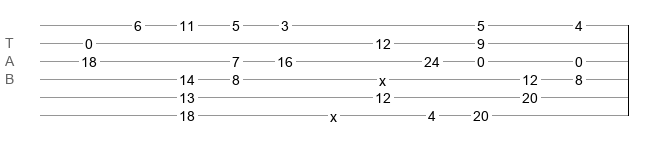0: (85, 36, 93, 46), (477, 54, 485, 64), (575, 54, 583, 64)
11: (179, 18, 195, 28)
12: (375, 36, 391, 46), (375, 90, 391, 100), (522, 72, 538, 82)
13: (179, 90, 195, 100)
14: (179, 72, 195, 82)
16: (277, 54, 293, 64)
18: (81, 54, 97, 64), (179, 108, 195, 118)
20: (473, 108, 489, 118), (522, 90, 538, 100)
24: (424, 54, 440, 64)
3: (281, 18, 289, 28)
4: (428, 108, 436, 118), (575, 18, 583, 28)
5: (232, 18, 240, 28), (477, 18, 485, 28)
6: (134, 18, 142, 28)
7: (232, 54, 240, 64)
8: (232, 72, 240, 82), (575, 72, 583, 82)
9: (477, 36, 485, 46)
x: (330, 109, 337, 117), (379, 73, 386, 81)
